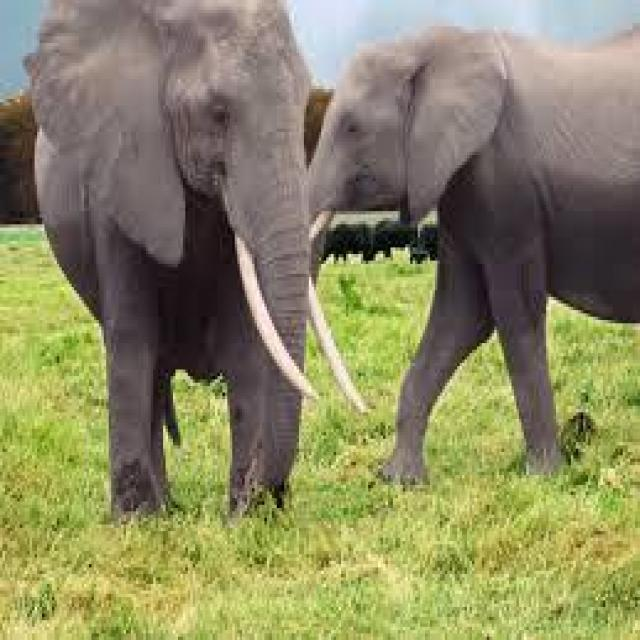Elephant: (302, 0, 638, 475), (24, 0, 299, 511)
